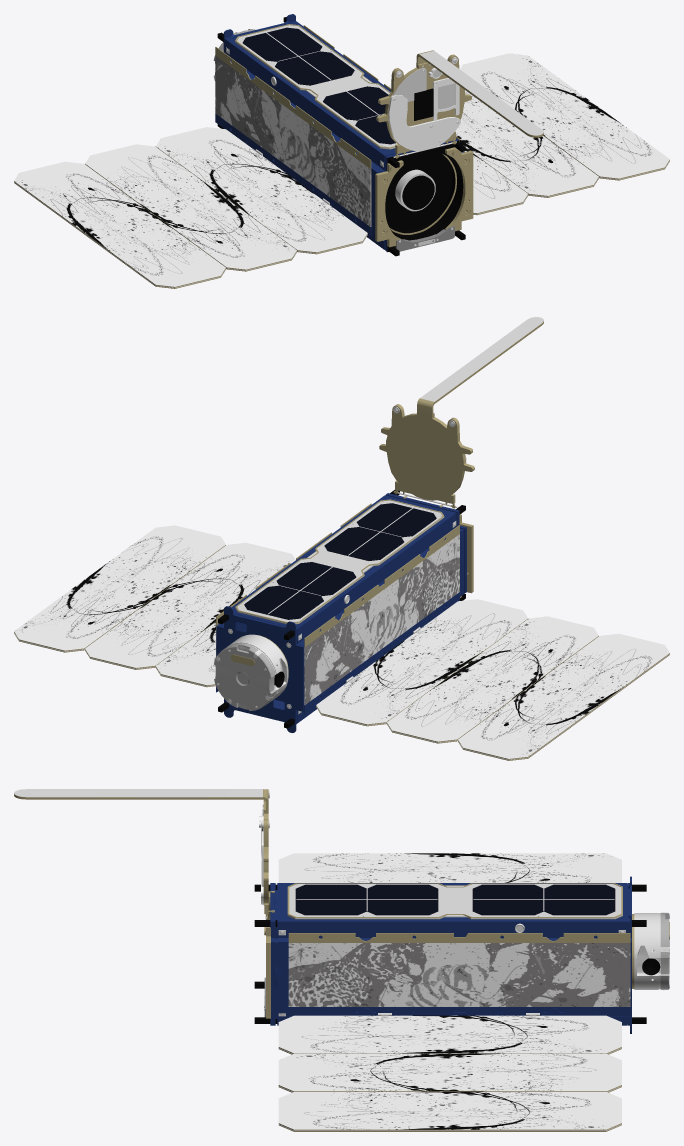
Rendered from uploads_files_3811117_CubeSat.fbx.
3 renders of one model, top to bottom at view 1: azimuth 30°, elevation 25°; view 2: azimuth 150°, elevation 25°; view 3: azimuth 270°, elevation 25°, orthographic. The views are drawn at different scales.
Visible parts, largest first — view 1: Cube.013; view 2: Cube.013; view 3: Cube.013.
Boxes of the visible parts, x1=… form: Cube.013: x1=14, y1=14, x2=669, y2=288; Cube.013: x1=14, y1=317, x2=669, y2=760; Cube.013: x1=14, y1=789, x2=669, y2=1131.
Size of the model in its own units: 1126 by 424 by 1129.
